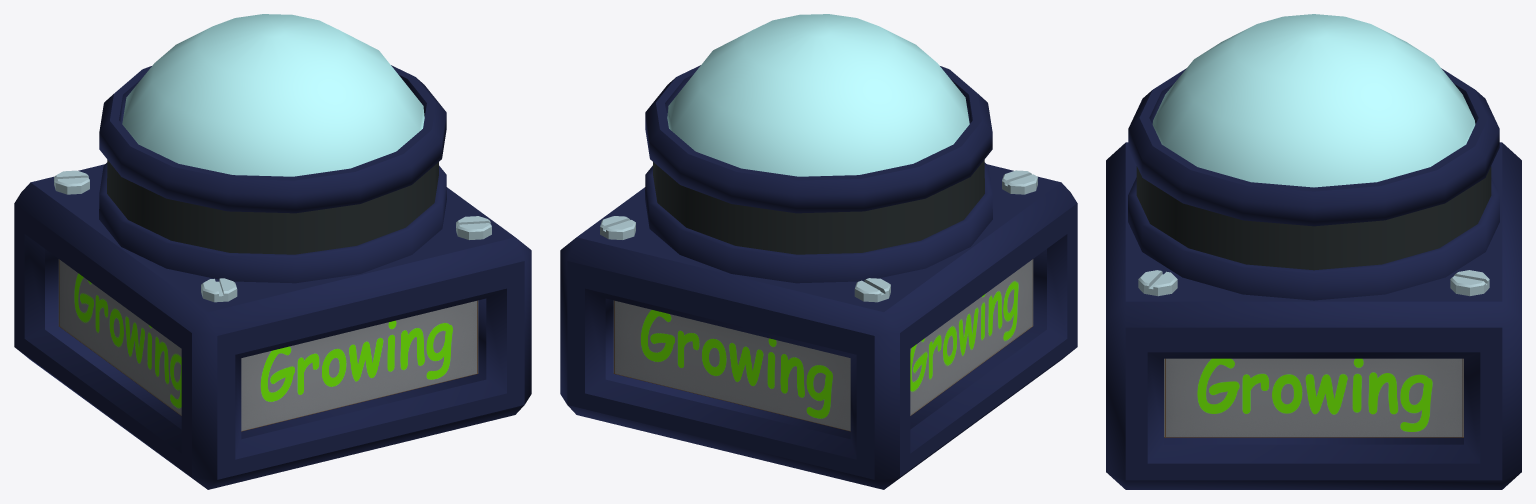
Rendered from fant_growing_sensor.obj.
3 renders of one model, left to right at view 1: azimuth 30°, elevation 25°; view 2: azimuth 150°, elevation 25°; view 3: azimuth 270°, elevation 25°, orthographic. The views are drawn at different scales.
Visible parts, largest first — view 1: fant_growing_sensor_Cube.001; view 2: fant_growing_sensor_Cube.001; view 3: fant_growing_sensor_Cube.001.
Boxes of the visible parts, x1,y1,x2,y2 form: fant_growing_sensor_Cube.001: (14, 14, 531, 489); fant_growing_sensor_Cube.001: (560, 14, 1077, 489); fant_growing_sensor_Cube.001: (1106, 14, 1521, 489).
Bounding box in the file's own units: 1 × 1 × 1.
